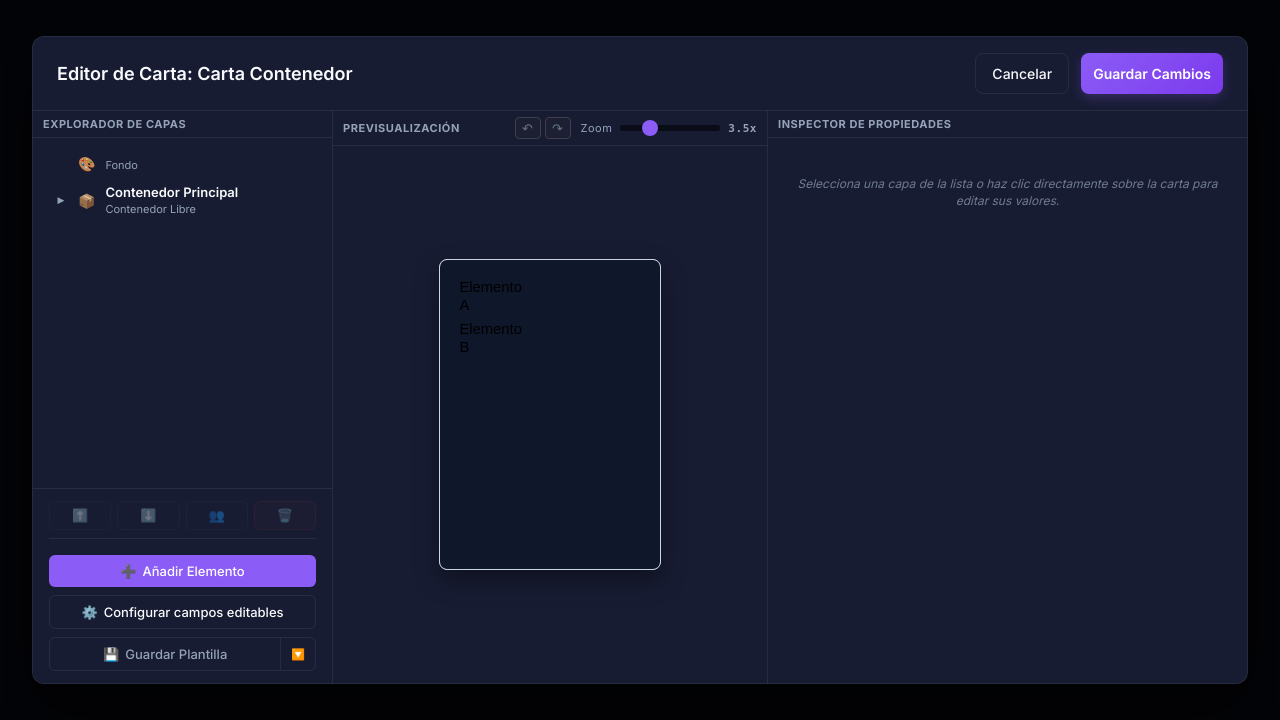
Test: SRS-071: Nuevos Tipos de Layout para Contenedores › RF-2 & RF-3: Inspector y Renderizado en EditCardModal › actualiza el subtítulo en el árbol de capas al cambiar de layout
Click the text "Contenedor Principal": (172, 192) [106,184,238,200]
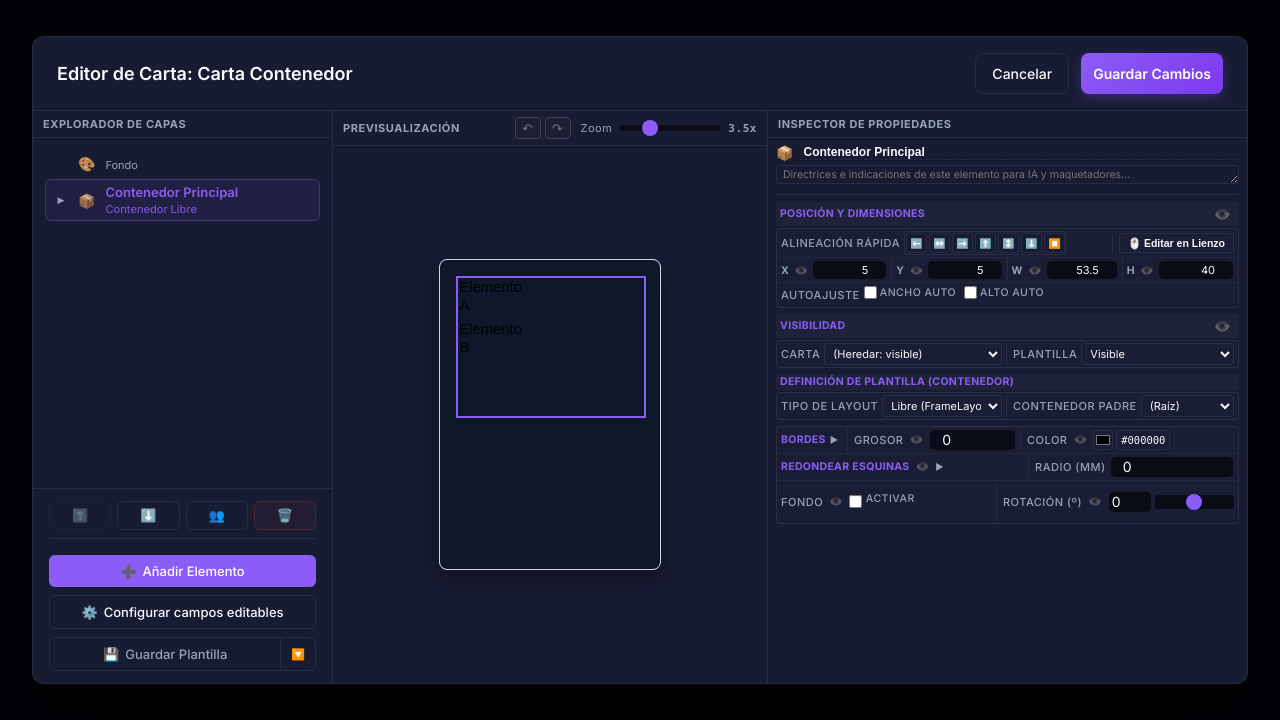
# Cambiar a vertical-center
Select "Lineal Vertical Centrado" in the dropdown showing "Libre (FrameLayout)" next to "Tipo de Layout": (942, 406) [882,395,1002,417]
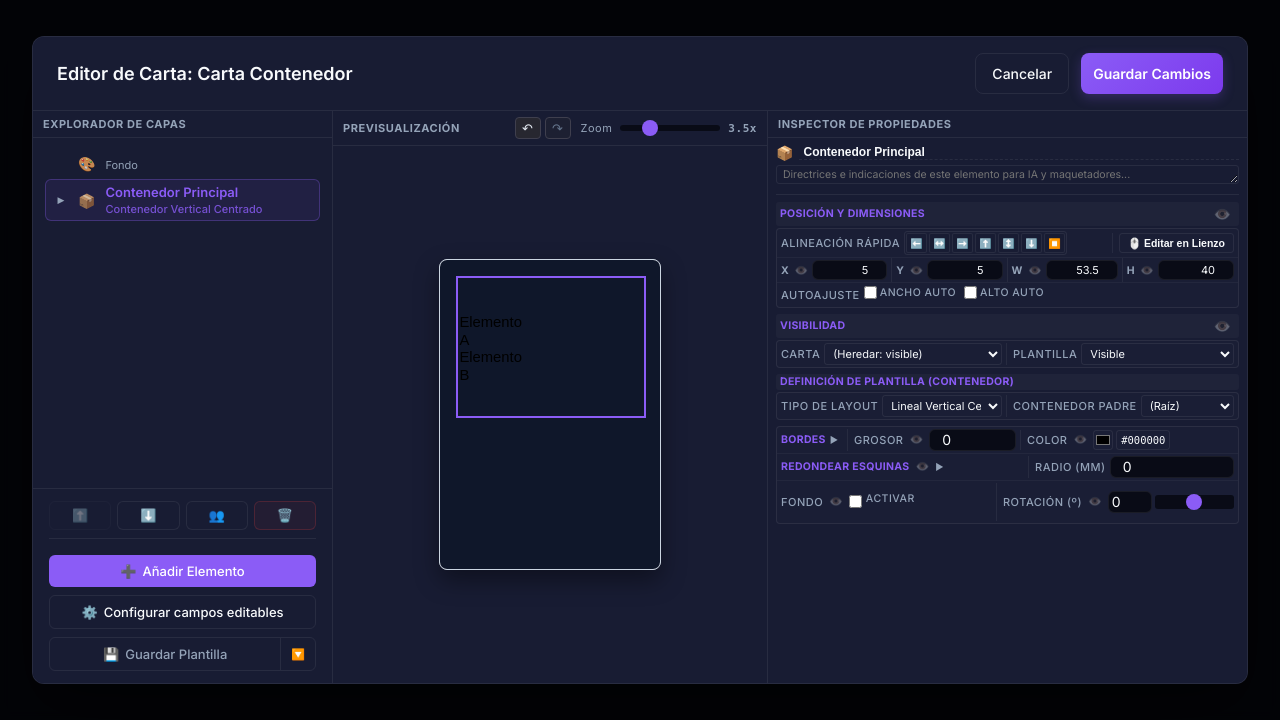
Expected: the text "Contenedor Vertical Centrado" is shown, [106,202,262,216]
# Cambiar a vertical-reverse
Select "Lineal Vertical Inverso (Abajo a Arriba)" in the dropdown showing "Libre (FrameLayout)" next to "Tipo de Layout": (942, 406) [882,395,1002,417]
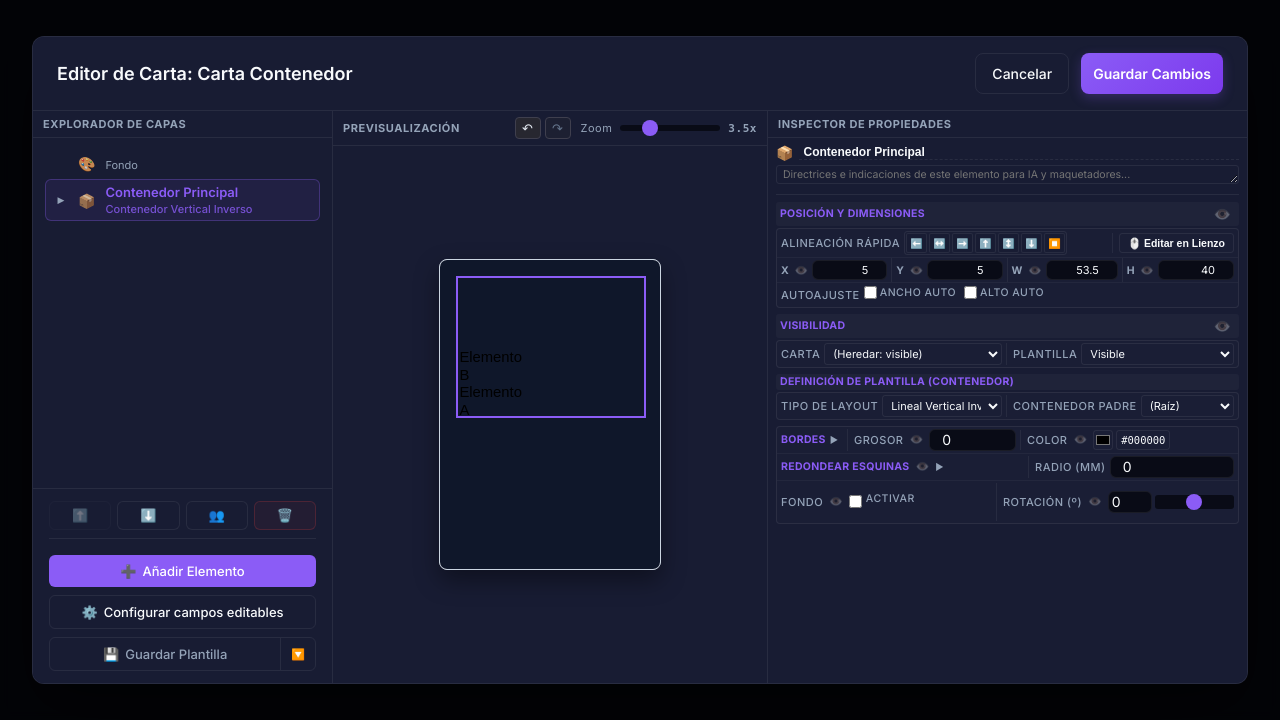
Expected: the text "Contenedor Vertical Inverso" is shown, [106,202,252,216]
# Cambiar a horizontal-center
Select "Lineal Horizontal Centrado" in the dropdown showing "Libre (FrameLayout)" next to "Tipo de Layout": (942, 406) [882,395,1002,417]
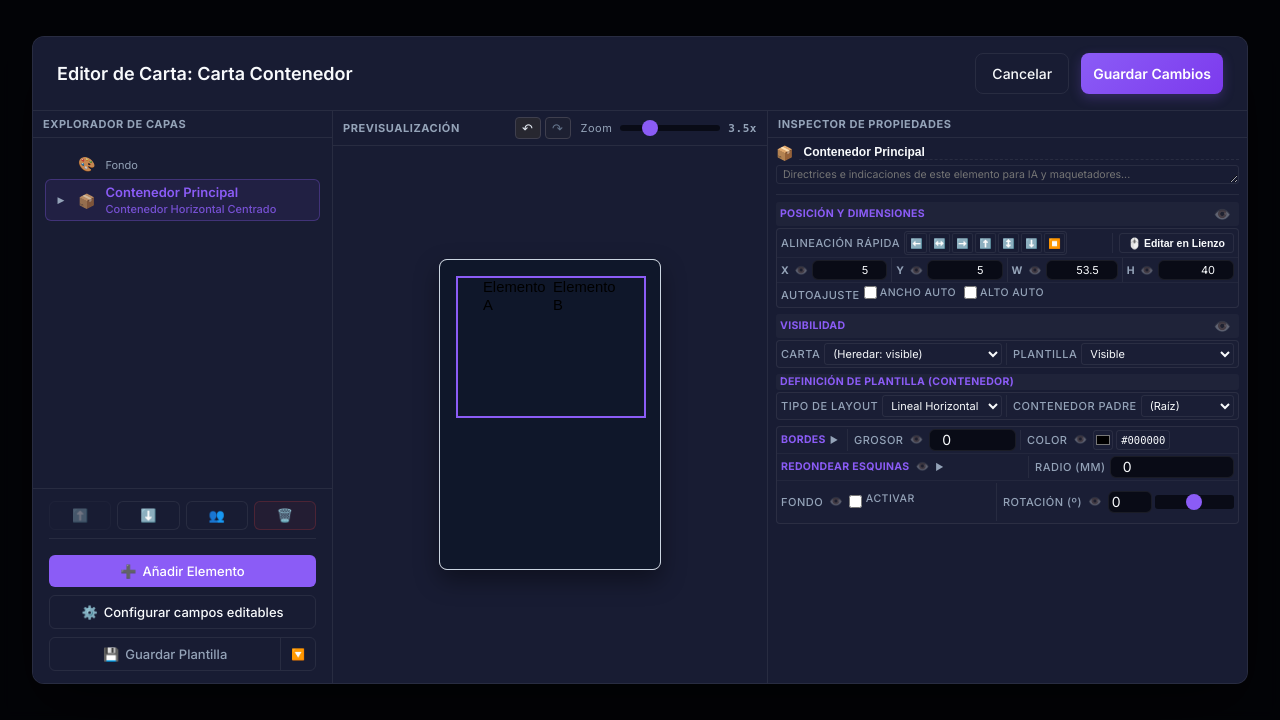
Expected: the text "Contenedor Horizontal Centrado" is shown, [106,202,276,216]
# Cambiar a horizontal-reverse
Select "Lineal Horizontal Inverso (Derecha a Izquierda)" in the dropdown showing "Libre (FrameLayout)" next to "Tipo de Layout": (942, 406) [882,395,1002,417]
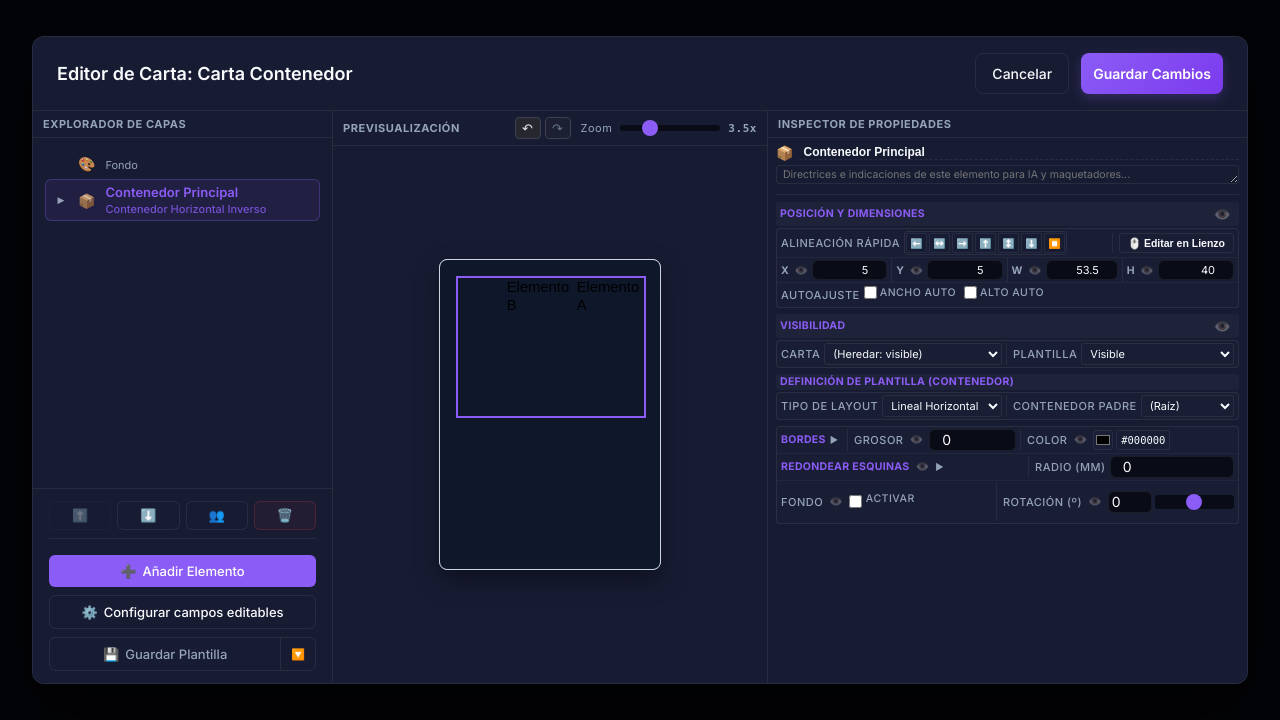
Expected: the text "Contenedor Horizontal Inverso" is shown, [106,202,266,216]
